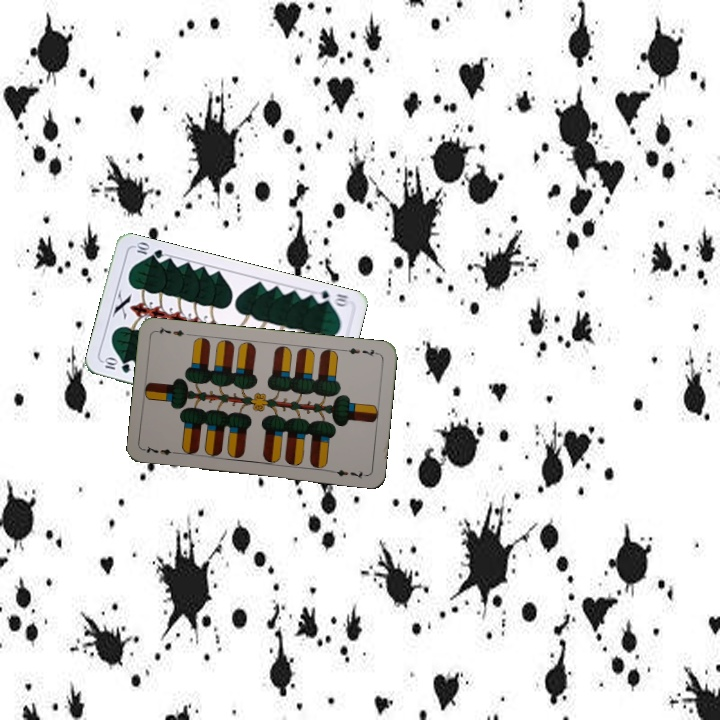E7: (141, 442, 182, 458), (341, 344, 381, 359)
G10: (310, 286, 352, 309), (99, 355, 133, 376)
